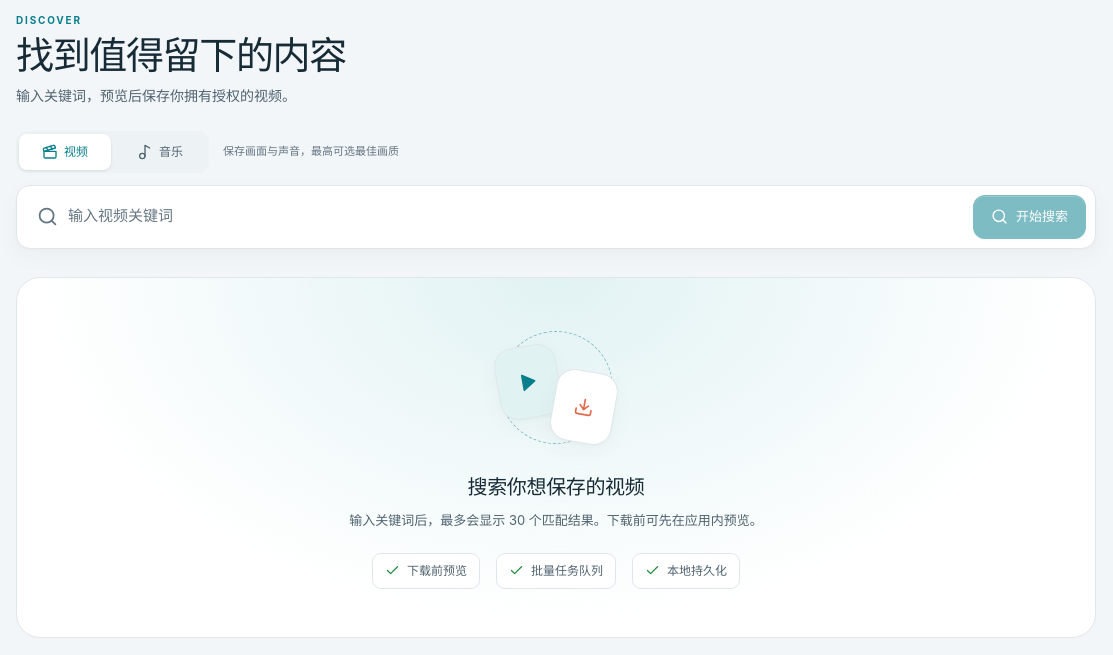
Test: SearchView › switches to a dedicated music download mode
Click the radio button labelled "音乐" at (160, 152), box [114,134,206,170]
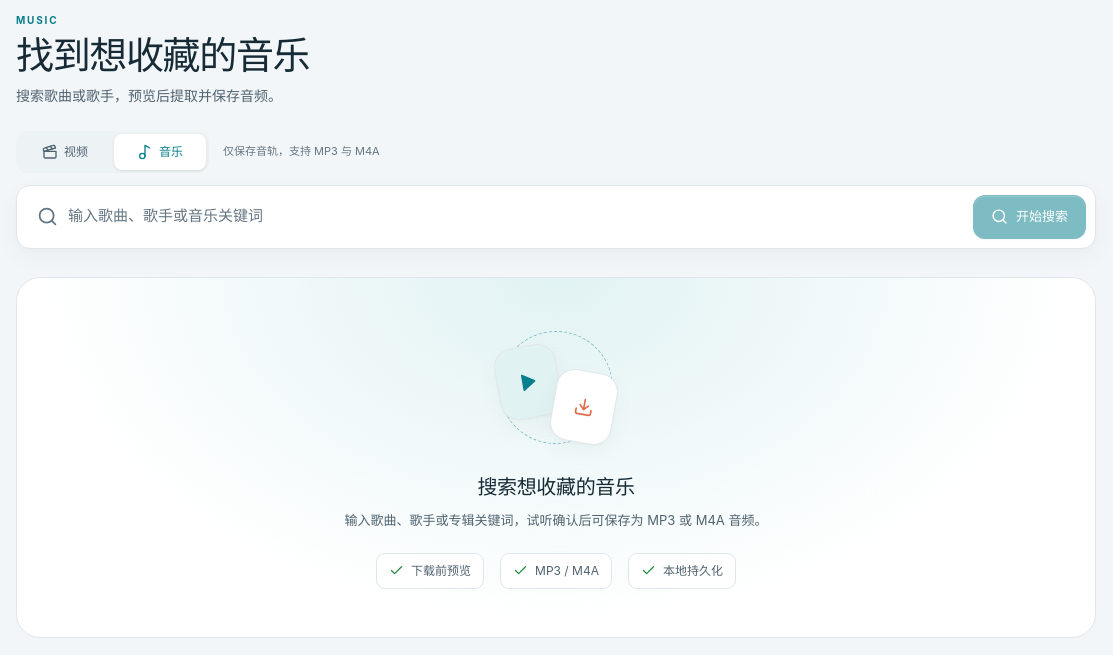
Check: the heading "找到想收藏的音乐" is shown, box [16,34,309,76]
Check: the field labelled "输入歌曲、歌手或音乐关键词" is shown, box [68,205,963,228]
Check: the text "仅保存音轨，支持 MP3 与 M4A" is shown, box [223,143,380,160]
